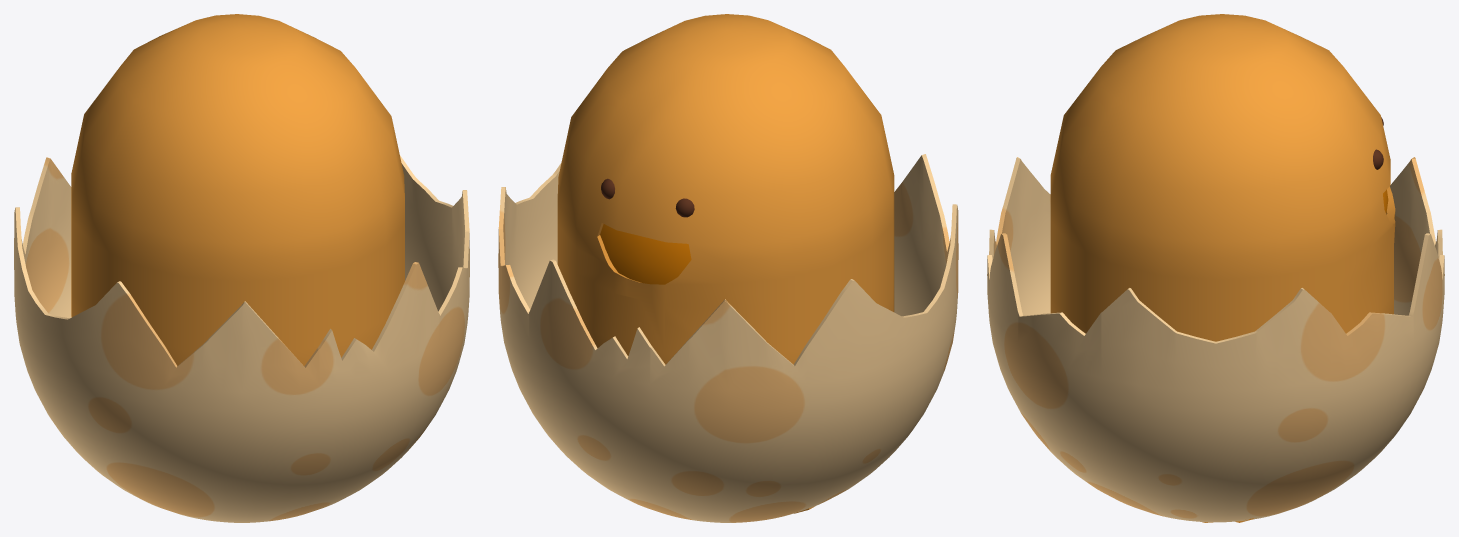
The model's file is sino1_0513.fbx.
The picture shows the model from 3 angles, left to right: view 1: azimuth 30°, elevation 25°; view 2: azimuth 150°, elevation 25°; view 3: azimuth 270°, elevation 25°; orthographic projection.
Visible parts, largest first — view 1: Capsule, Capsule__Extrude__1; view 2: Capsule, Capsule__Extrude__1, capsule; view 3: Capsule, Capsule__Extrude__1.
Part boxes in pixels (left/top/right/bottom): Capsule: left=71, top=14, right=404, bottom=365; Capsule__Extrude__1: left=14, top=155, right=469, bottom=522; Capsule: left=557, top=14, right=894, bottom=513; Capsule__Extrude__1: left=498, top=154, right=958, bottom=522; capsule: left=600, top=224, right=691, bottom=284; Capsule: left=1050, top=14, right=1395, bottom=522; Capsule__Extrude__1: left=987, top=157, right=1444, bottom=522.
Size of the model in its own units: 23.14 by 26.29 by 23.15.
Materials: 4 (1 with a texture image).
